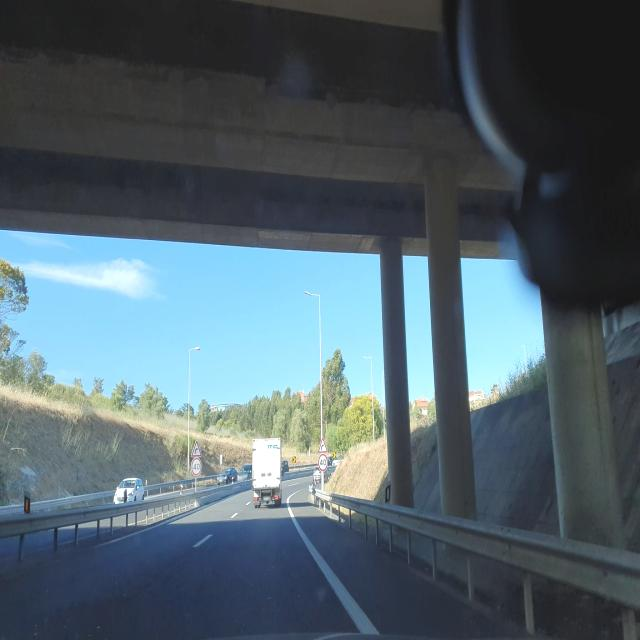car: (114, 477, 146, 504)
